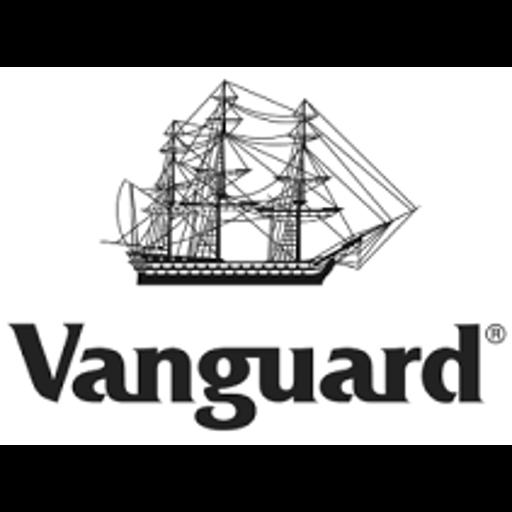The Vanguard Group: (0, 67, 512, 445)
